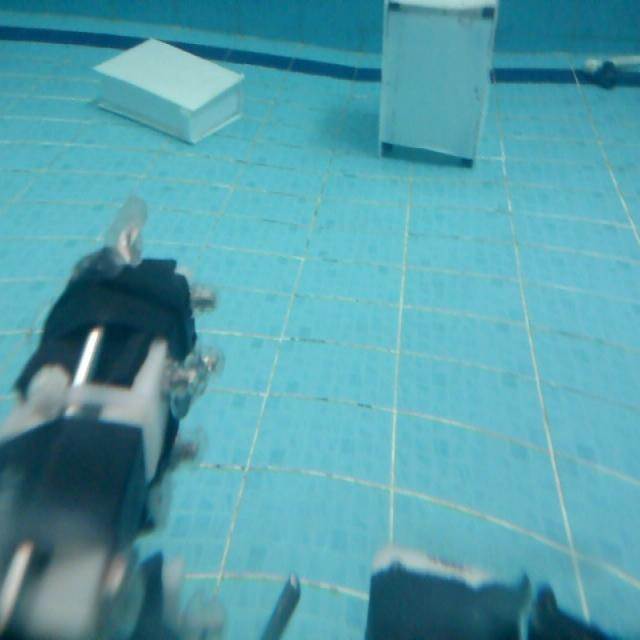Cube: (365, 2, 508, 185)
Cuboid: (91, 33, 245, 144)
